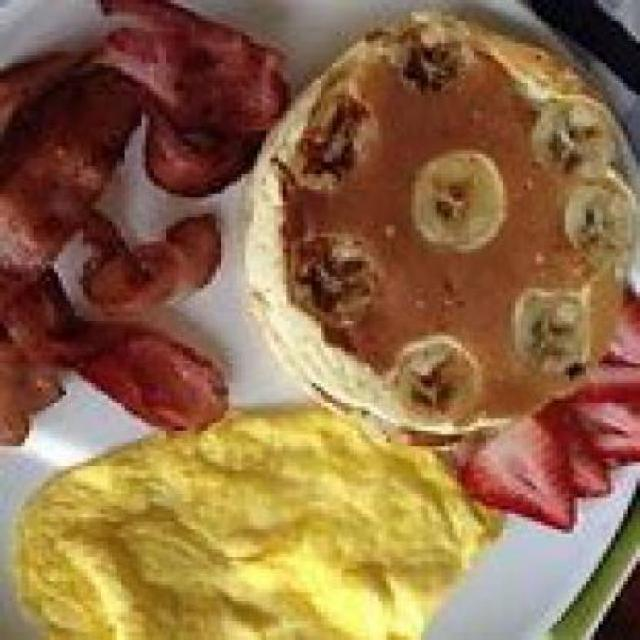omelette: (8, 399, 494, 636)
pancakes: (236, 8, 636, 435)
